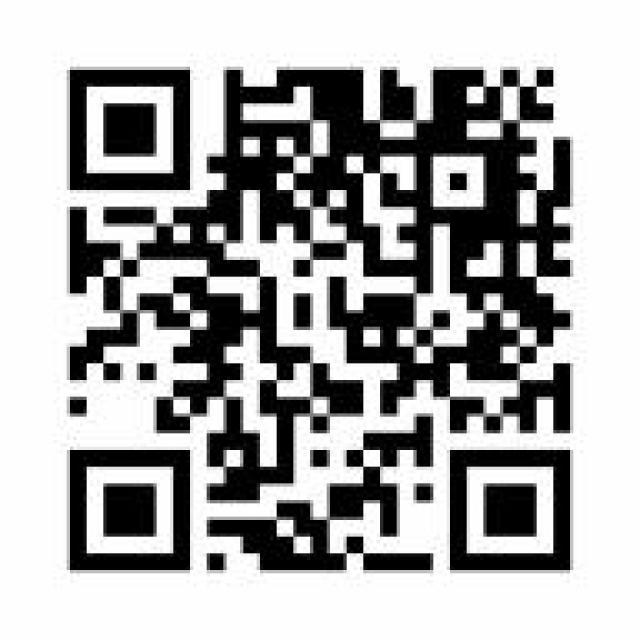qr_code: (69, 69, 571, 571)
